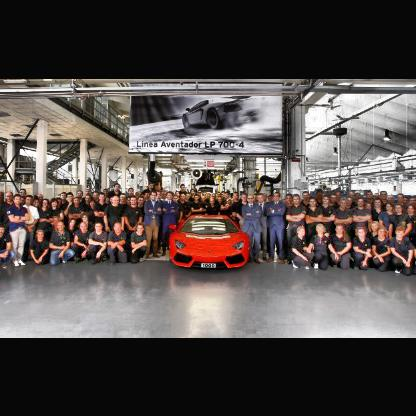Lamborghini Aventador Coupe 2012: (170, 215, 252, 269)
